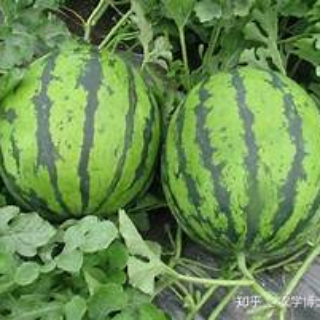dua_hau: (1, 41, 161, 227), (165, 67, 319, 260)
